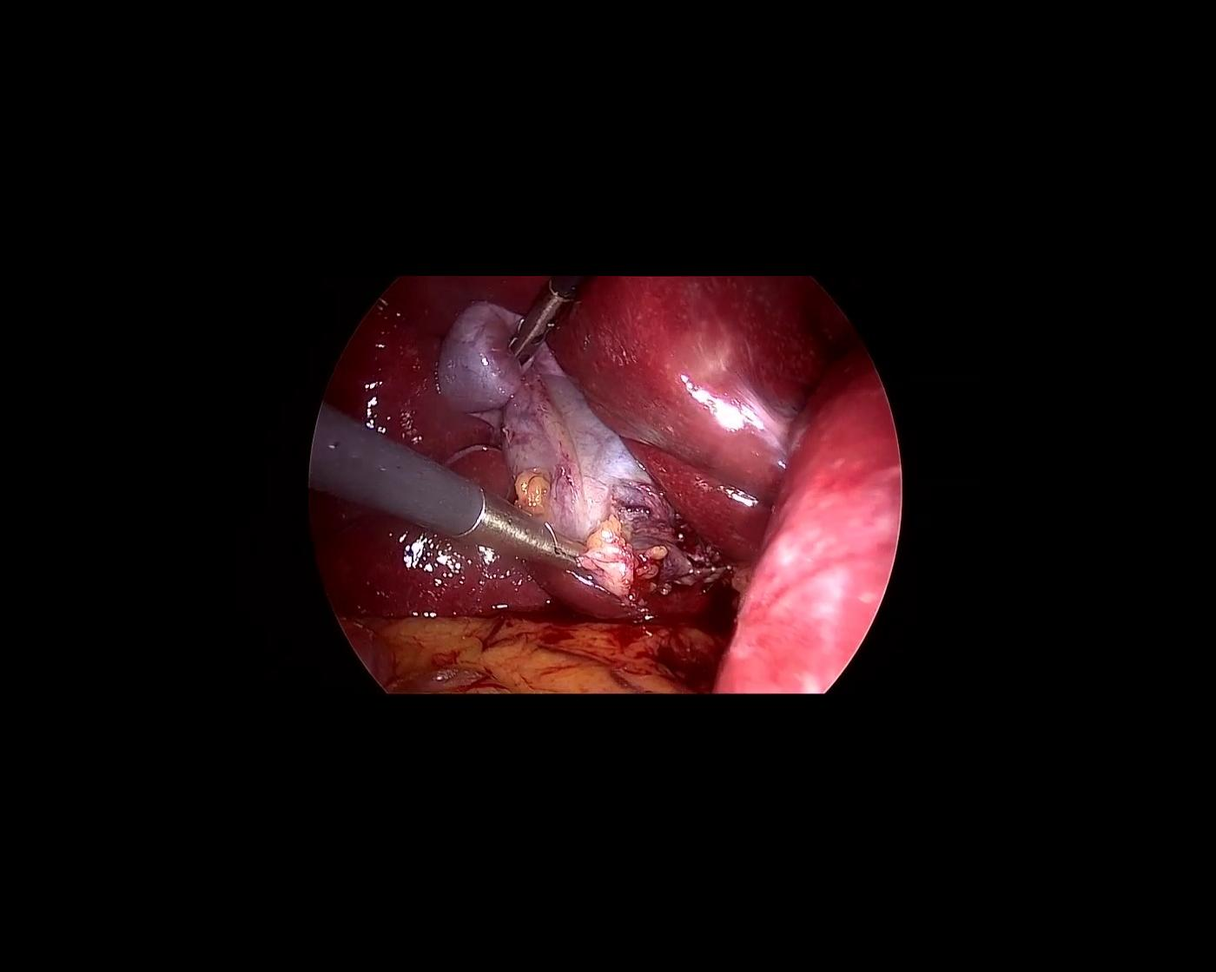Forceps: (284, 401, 605, 629), (492, 257, 590, 366)
Gallbladder: (405, 282, 707, 626)
Liver: (500, 186, 873, 553), (275, 489, 634, 703), (320, 250, 543, 501)
